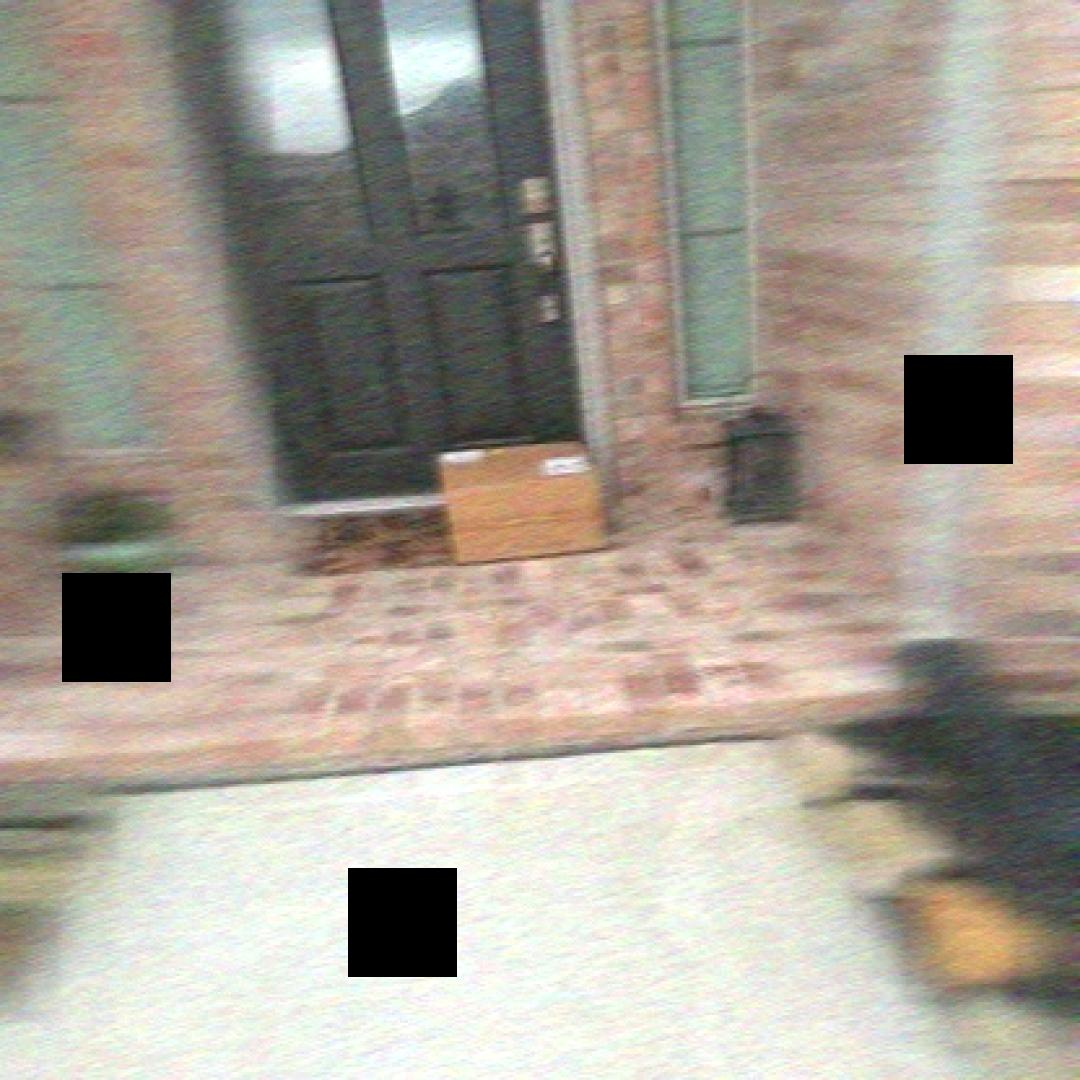package: (431, 441, 626, 566)
